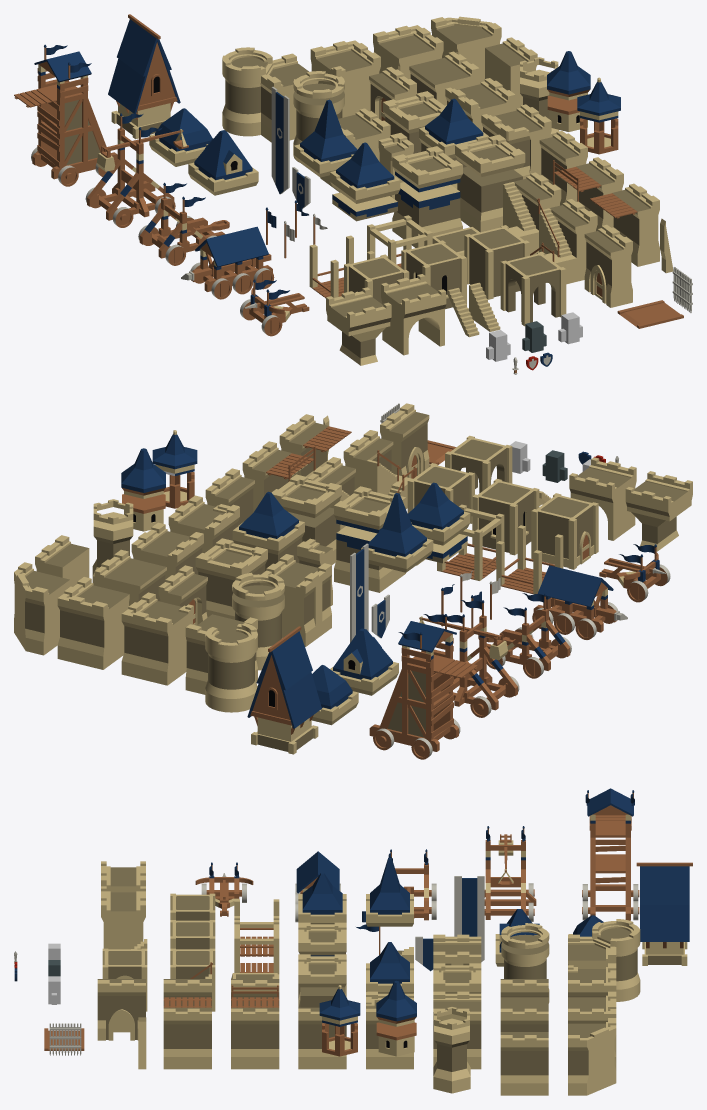
File: castleKit.obj
The picture shows the model from 3 angles, top to bottom: view 1: azimuth 30°, elevation 25°; view 2: azimuth 150°, elevation 25°; view 3: azimuth 270°, elevation 25°; orthographic projection. The views are drawn at different scales.
Visible parts, largest first — view 1: Mesh92 body3 siegeTower_8angles Model, Mesh149 towerSlantRoof_exclusive Model, Mesh22 wallCornerHalfTower Model, Mesh156 bridgeStraight_exclusive Model, Mesh50 towerSquareArch Model, Mesh157 bridgeStraightPole_exclusive Model, Mesh10 wallNarrowStairsFence Model, Mesh111 wallDoor Model, Mesh7 wallCorner Model, Mesh64 body siegeTrebuchet_8angles Model, Mesh31 towerSquareMid Model, Mesh103 body4 siegeRam_8angles Model (+46 smaller); view 2: Mesh92 body3 siegeTower_8angles Model, Mesh149 towerSlantRoof_exclusive Model, Mesh22 wallCornerHalfTower Model, Mesh15 wallCornerHalf Model, Mesh7 wallCorner Model, Mesh145 towerSquareMidDoor_exclusive Model, Mesh28 wallPillar Model, Mesh146 wallCornerSlant_exclusive Model, Mesh157 bridgeStraightPole_exclusive Model, Mesh17 towerSquare Model, Mesh156 bridgeStraight_exclusive Model, Mesh33 towerSquareMidWindows Model (+42 smaller); view 3: Mesh149 towerSlantRoof_exclusive Model, Mesh92 body3 siegeTower_8angles Model, Mesh146 wallCornerSlant_exclusive Model, Mesh151 wallHalfModular_exclusive Model, Mesh22 wallCornerHalfTower Model, Mesh5 wallNarrowWoodFence Model, Mesh13 wallNarrowWood Model, Mesh156 bridgeStraight_exclusive Model, Mesh111 wallDoor Model, Mesh152 towerHexagonBase_exclusive Model, Mesh48 towerSquareTopRoofHigh Model, Mesh64 body siegeTrebuchet_8angles Model (+41 smaller).
Part boxes in pixels (bbox=[...]): Mesh92 body3 siegeTower_8angles Model: bbox=[32, 51, 117, 179]; Mesh149 towerSlantRoof_exclusive Model: bbox=[108, 14, 180, 139]; Mesh22 wallCornerHalfTower Model: bbox=[222, 53, 318, 142]; Mesh156 bridgeStraight_exclusive Model: bbox=[381, 274, 446, 355]; Mesh50 towerSquareArch Model: bbox=[500, 251, 566, 326]; Mesh157 bridgeStraightPole_exclusive Model: bbox=[326, 287, 391, 365]; Mesh10 wallNarrowStairsFence Model: bbox=[539, 199, 597, 284]; Mesh111 wallDoor Model: bbox=[584, 224, 632, 307]; Mesh7 wallCorner Model: bbox=[310, 40, 380, 117]; Mesh64 body siegeTrebuchet_8angles Model: bbox=[87, 128, 174, 220]; Mesh31 towerSquareMid Model: bbox=[464, 225, 529, 299]; Mesh103 body4 siegeRam_8angles Model: bbox=[191, 226, 272, 291]; Mesh92 body3 siegeTower_8angles Model: bbox=[369, 621, 458, 751]; Mesh149 towerSlantRoof_exclusive Model: bbox=[247, 626, 321, 754]; Mesh22 wallCornerHalfTower Model: bbox=[185, 614, 257, 712]; Mesh15 wallCornerHalf Model: bbox=[57, 577, 129, 669]; Mesh7 wallCorner Model: bbox=[121, 592, 193, 685]; Mesh145 towerSquareMidDoor_exclusive Model: bbox=[531, 493, 598, 569]; Mesh28 wallPillar Model: bbox=[260, 554, 331, 646]; Mesh146 wallCornerSlant_exclusive Model: bbox=[14, 562, 70, 655]; Mesh157 bridgeStraightPole_exclusive Model: bbox=[625, 471, 692, 551]; Mesh17 towerSquare Model: bbox=[195, 538, 267, 619]; Mesh156 bridgeStraight_exclusive Model: bbox=[569, 457, 636, 540]; Mesh33 towerSquareMidWindows Model: bbox=[472, 479, 539, 555]; Mesh149 towerSlantRoof_exclusive Model: bbox=[636, 862, 692, 965]; Mesh92 body3 siegeTower_8angles Model: bbox=[587, 788, 633, 920]; Mesh146 wallCornerSlant_exclusive Model: bbox=[568, 1018, 616, 1095]; Mesh151 wallHalfModular_exclusive Model: bbox=[500, 1032, 548, 1095]; Mesh22 wallCornerHalfTower Model: bbox=[568, 928, 640, 1001]; Mesh5 wallNarrowWoodFence Model: bbox=[231, 1007, 279, 1069]; Mesh13 wallNarrowWood Model: bbox=[163, 1007, 211, 1069]; Mesh156 bridgeStraight_exclusive Model: bbox=[101, 886, 145, 949]; Mesh111 wallDoor Model: bbox=[97, 979, 145, 1040]; Mesh152 towerHexagonBase_exclusive Model: bbox=[433, 1018, 470, 1093]; Mesh48 towerSquareTopRoofHigh Model: bbox=[366, 857, 413, 926]; Mesh64 body siegeTrebuchet_8angles Model: bbox=[484, 840, 536, 919].
Size of the model in its own units: 10.25 by 2.64 by 14.11.
